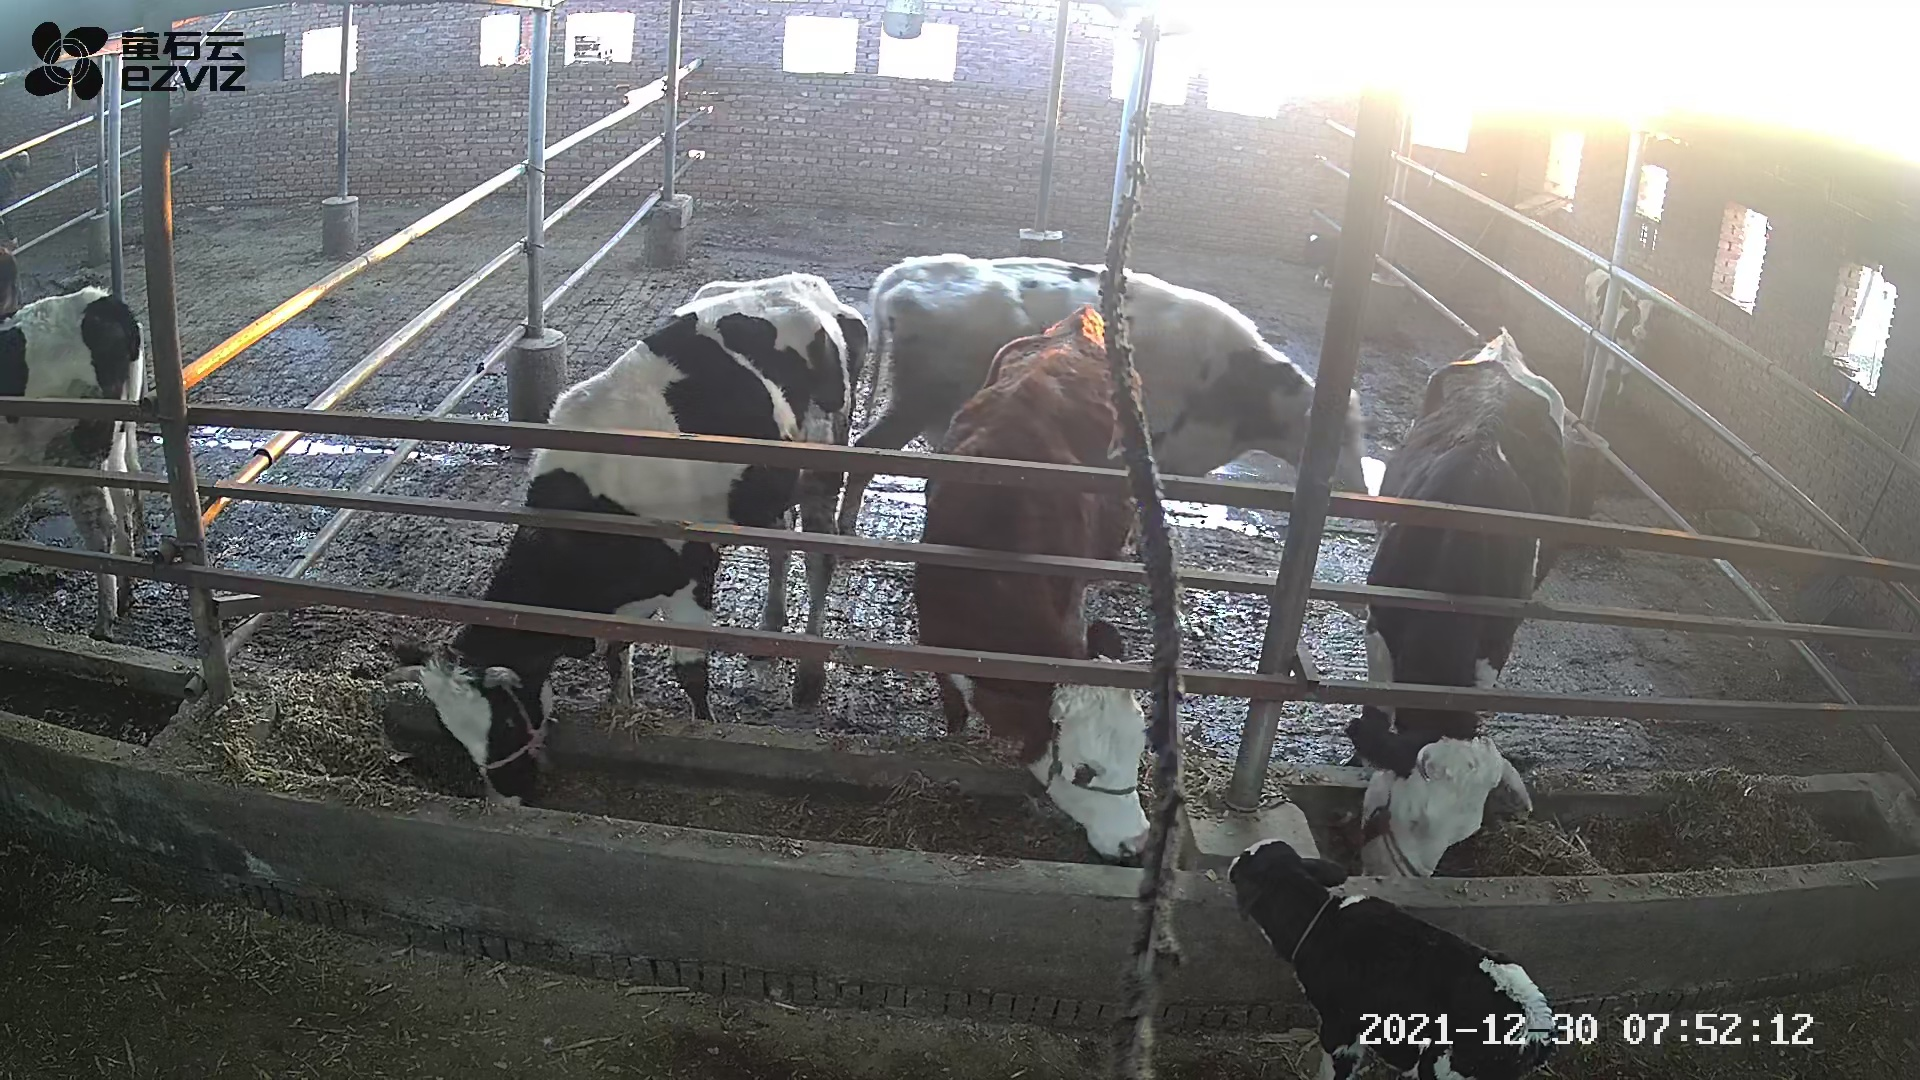cow: (378, 270, 872, 808), (836, 252, 1367, 535), (914, 305, 1151, 862), (1342, 327, 1571, 878)
